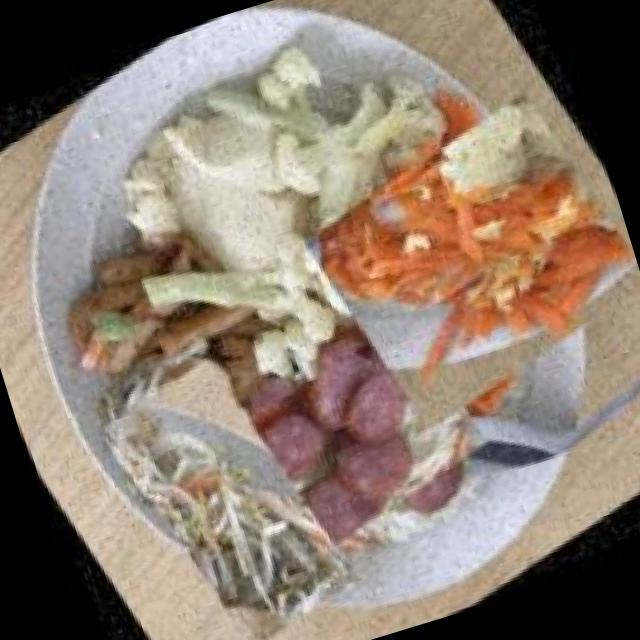carrot_eggs: (276, 61, 640, 456)
chinese_sausage: (214, 293, 502, 580)
mung_bean_sprouts: (87, 328, 372, 640)
